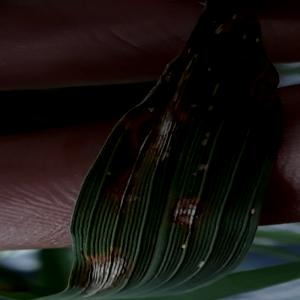1 RiceBlast: (134, 78, 210, 170), (226, 64, 286, 129), (74, 246, 143, 300), (158, 186, 208, 235), (106, 172, 148, 216)
